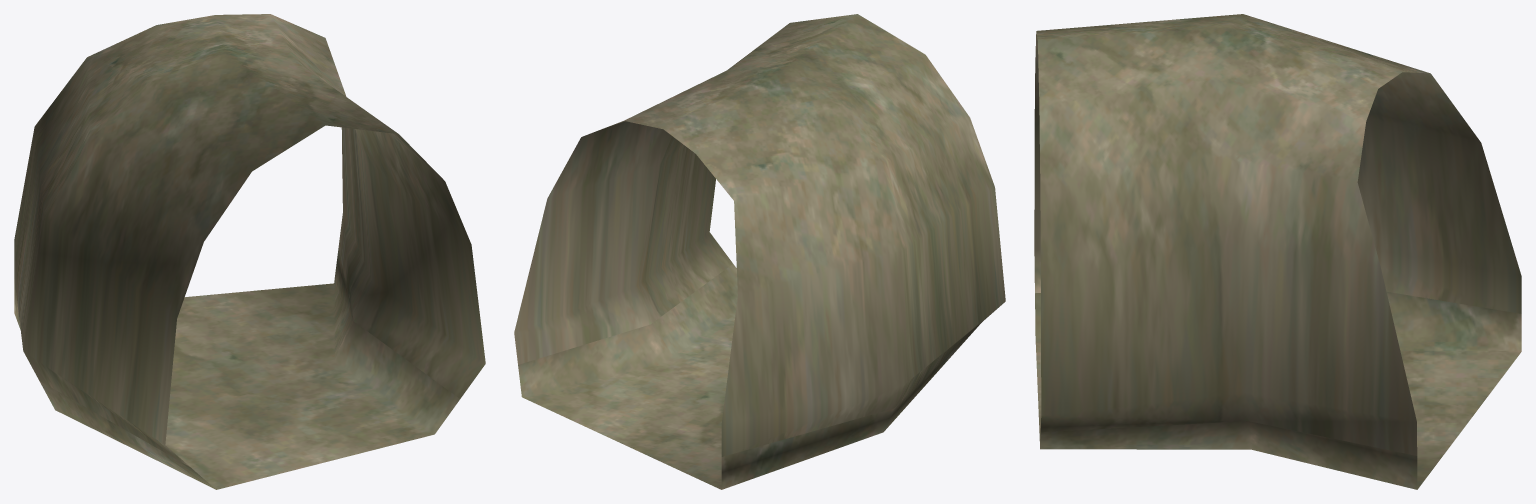
The model's file is OVERHILL_A_01_OBJECT45.fbx.
3 renders of one model, left to right at view 1: azimuth 30°, elevation 25°; view 2: azimuth 150°, elevation 25°; view 3: azimuth 270°, elevation 25°, orthographic. The views are drawn at different scales.
Visible parts, largest first — view 1: OVERHILL_A_01_OBJECT45; view 2: OVERHILL_A_01_OBJECT45; view 3: OVERHILL_A_01_OBJECT45.
Part boxes in pixels (left/top/right/bottom): OVERHILL_A_01_OBJECT45: left=14, top=14, right=485, bottom=489; OVERHILL_A_01_OBJECT45: left=514, top=14, right=1005, bottom=489; OVERHILL_A_01_OBJECT45: left=1034, top=14, right=1521, bottom=489.
Size of the model in its own units: 26663 by 23343 by 28600.
1 material, 1 textured.
